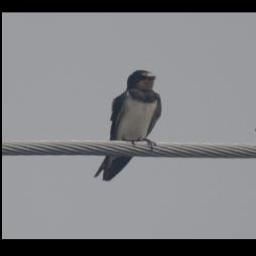Swallow: (93, 69, 162, 181)
